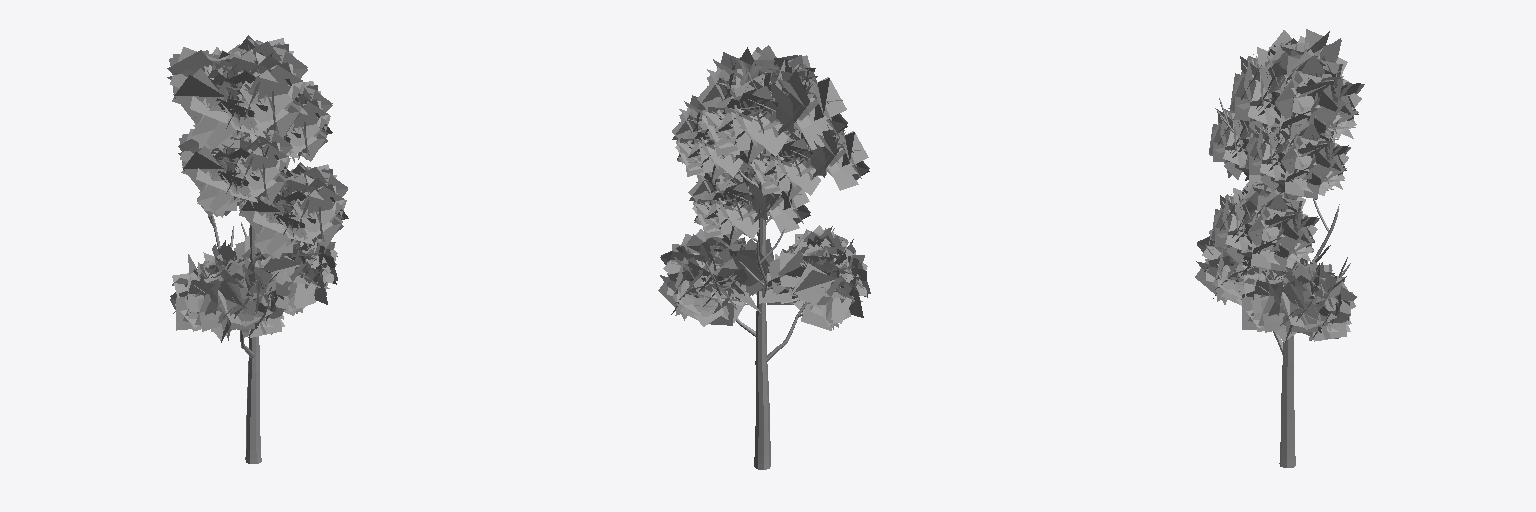
Rendered from BirchTree_2.obj.
The picture shows the model from 3 angles: view 1: azimuth 30°, elevation 25°; view 2: azimuth 150°, elevation 25°; view 3: azimuth 270°, elevation 25°; orthographic projection.
Visible parts, largest first — view 1: BirchTree_2_Cube.002; view 2: BirchTree_2_Cube.002; view 3: BirchTree_2_Cube.002.
Boxes of the visible parts, x1=… form: BirchTree_2_Cube.002: x1=167, y1=35, x2=348, y2=463; BirchTree_2_Cube.002: x1=658, y1=45, x2=870, y2=469; BirchTree_2_Cube.002: x1=1195, y1=29, x2=1364, y2=467.
Size of the model in its own units: 3.35 by 7.57 by 2.81.